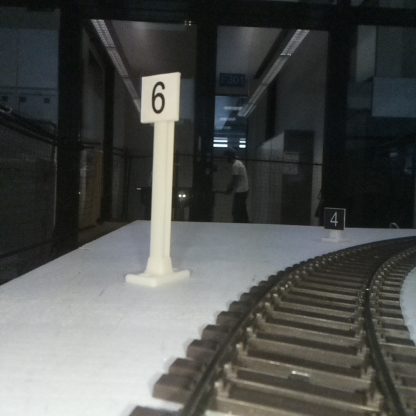black-stop-4: (325, 208, 344, 238)
white-info-6: (141, 72, 179, 283)
